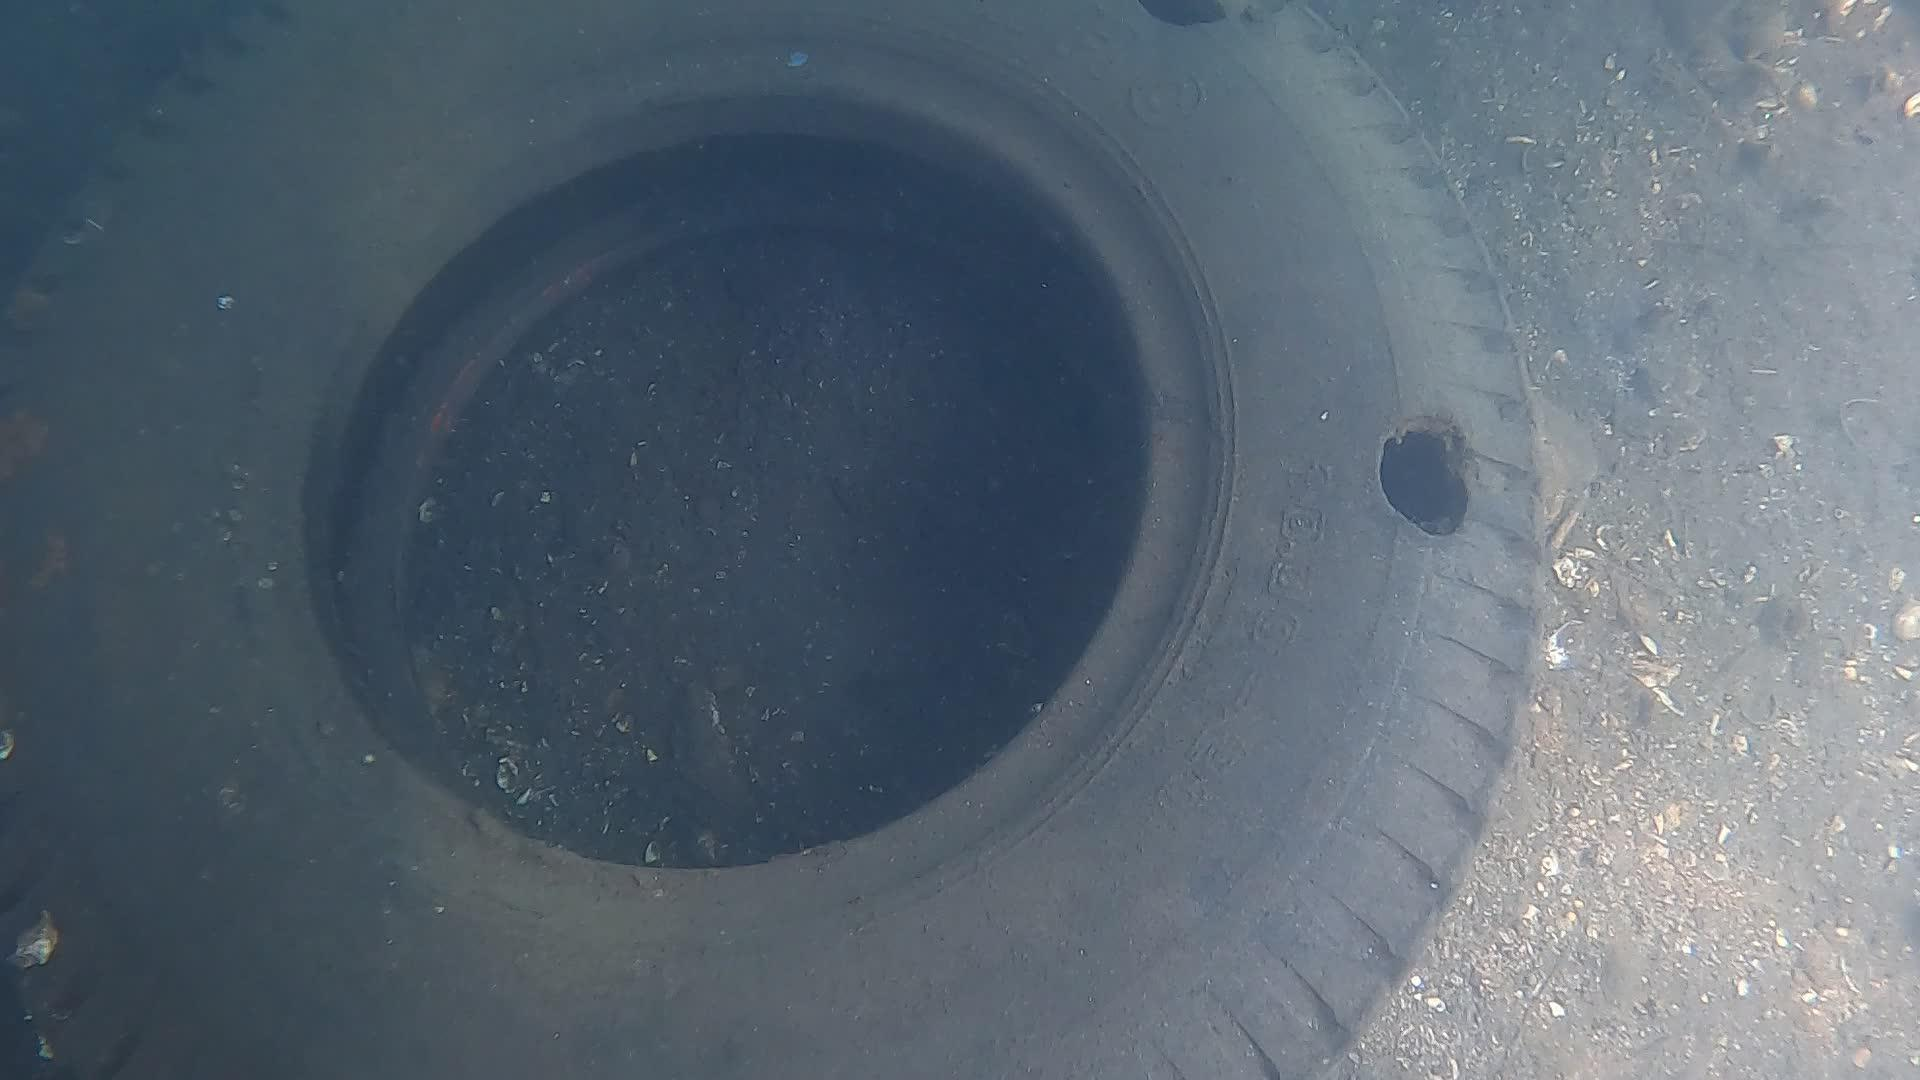tire: (4, 0, 1549, 1080)
